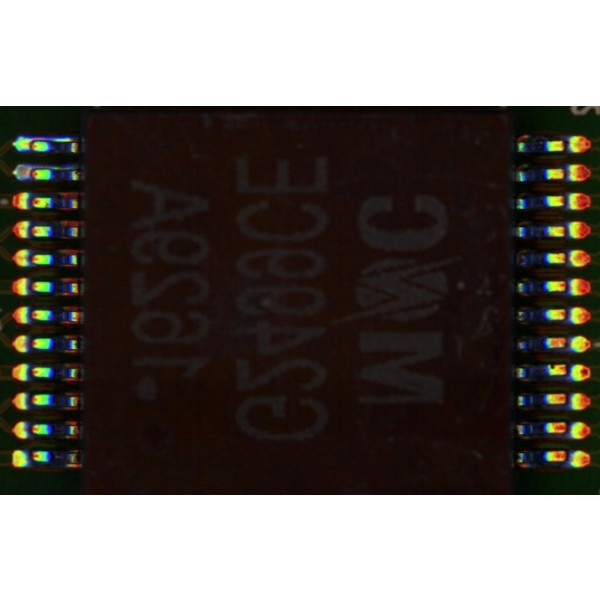Bad_podu: (22, 142, 36, 150), (26, 169, 37, 179)
Bad_qiaojiao: (32, 137, 74, 142), (32, 165, 81, 169)
